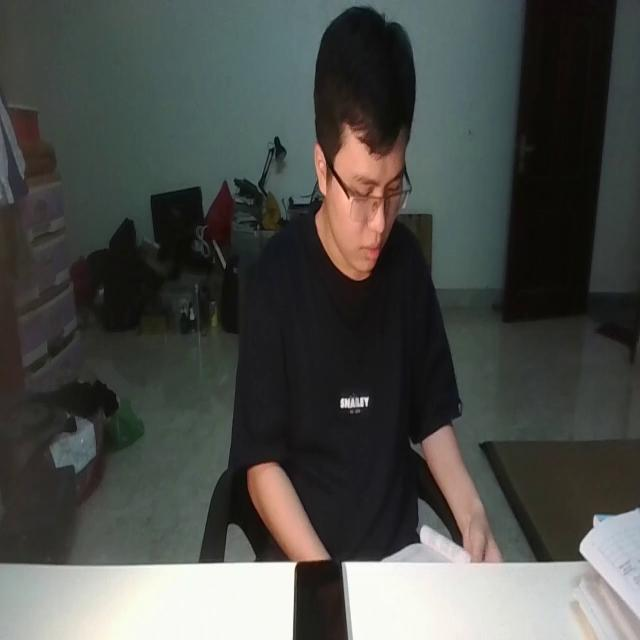book: (376, 522, 473, 564)
phone: (291, 553, 349, 640)
student: (231, 7, 506, 564)
